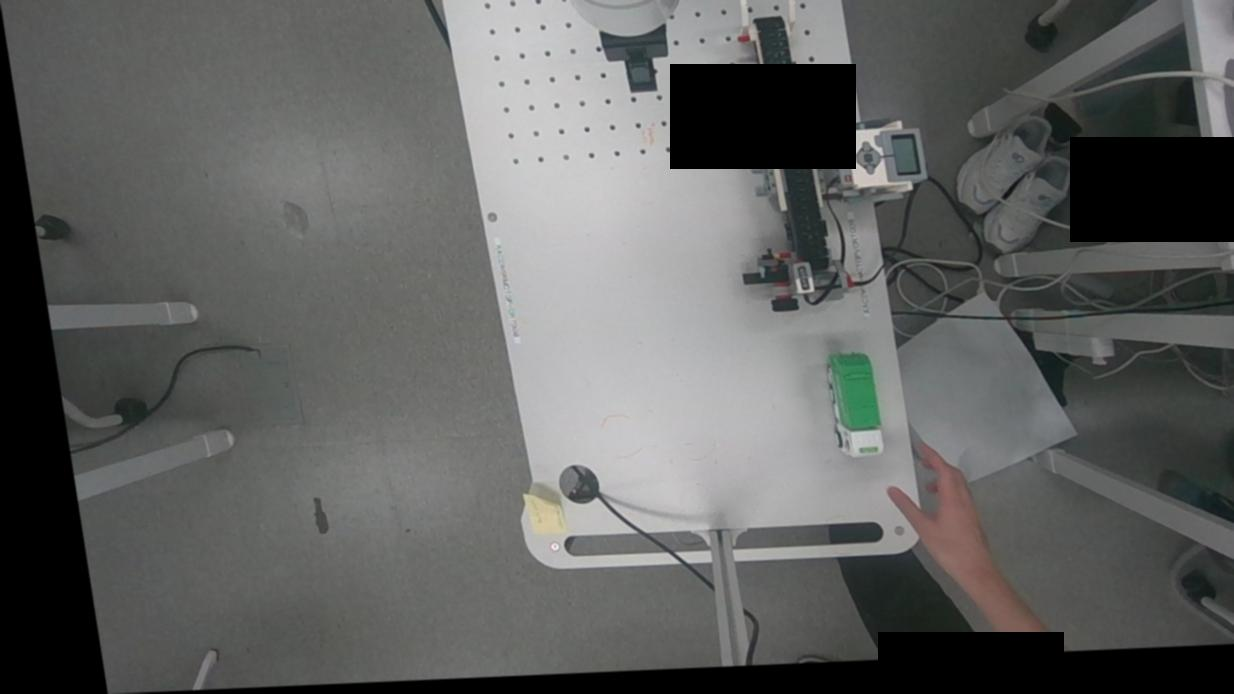truck: (805, 348, 898, 473)
